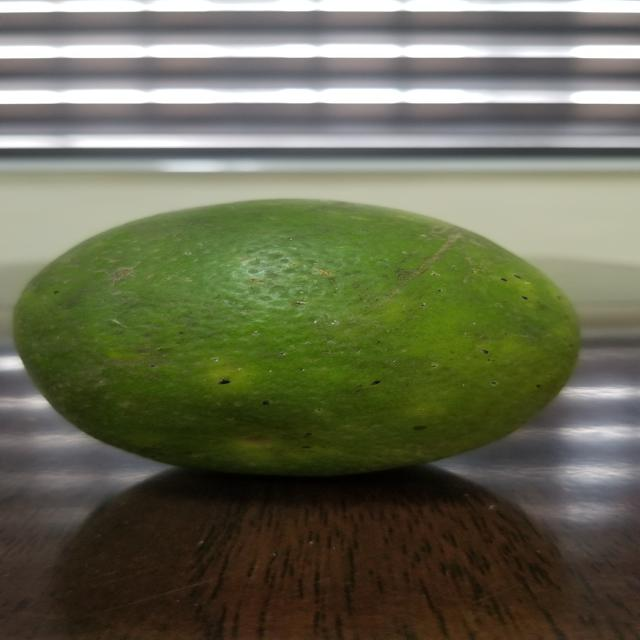Ripe orange: (10, 198, 640, 480)
